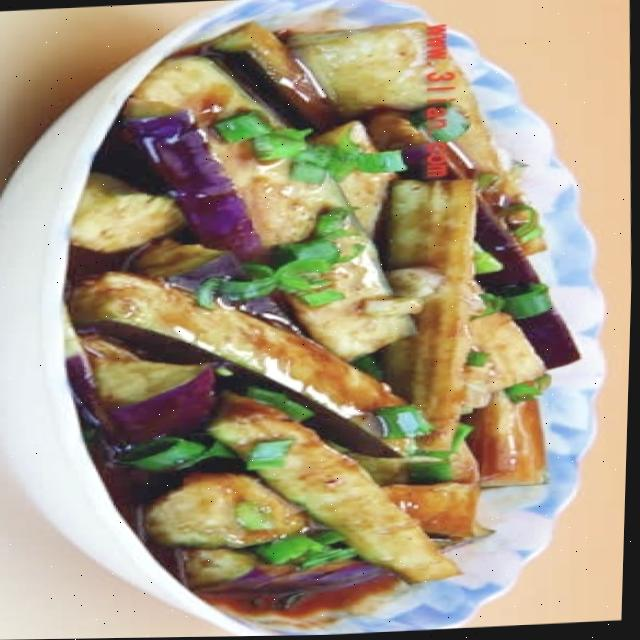鸡蛋料理: (0, 0, 620, 640)
